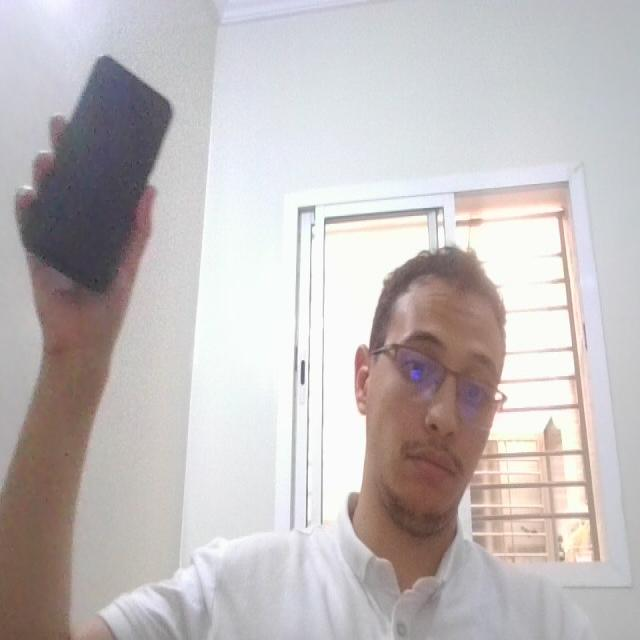phone: (22, 49, 182, 303)
